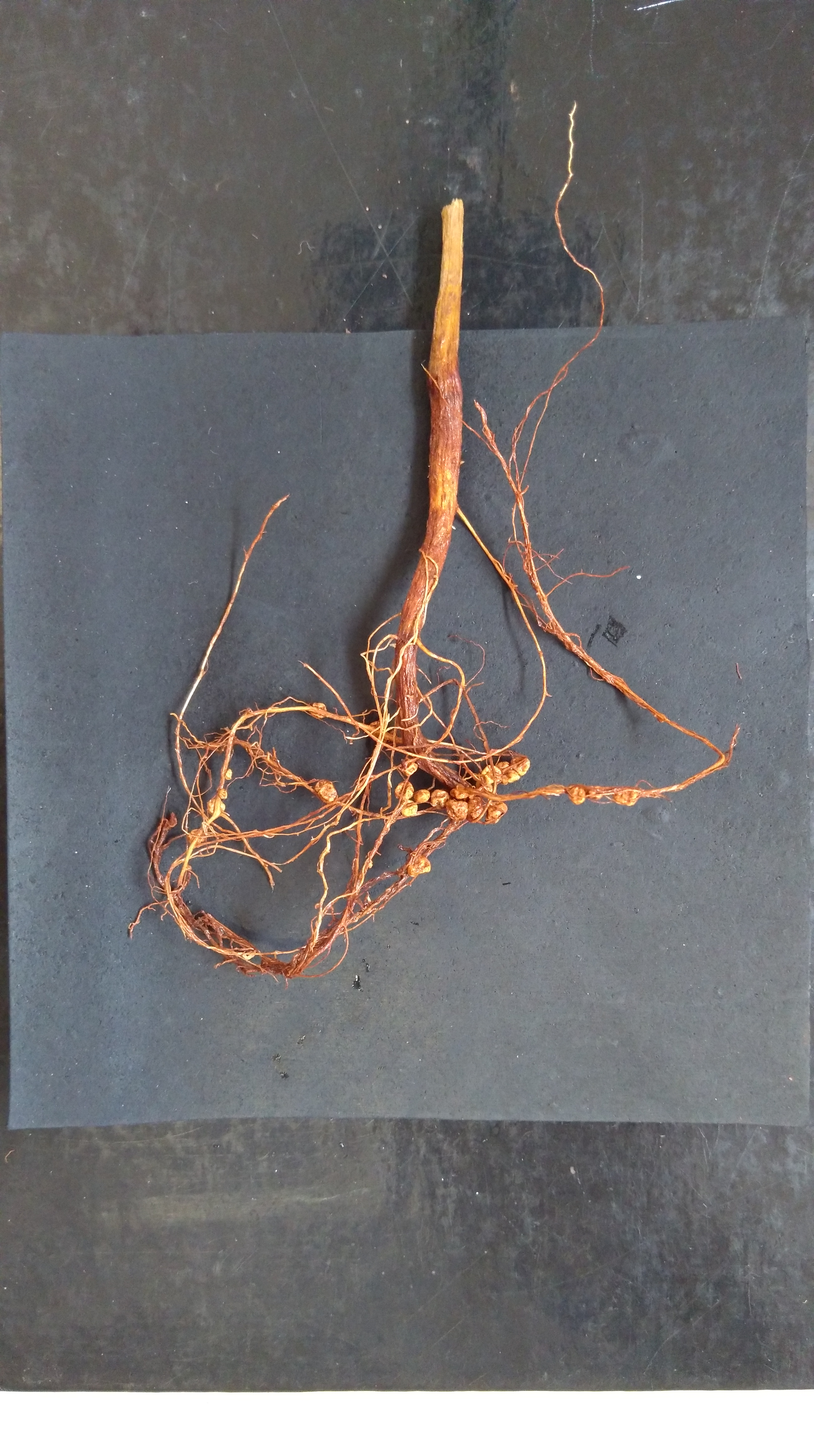nodule: (314, 777, 339, 804), (406, 855, 432, 878), (486, 800, 509, 824), (444, 800, 468, 822), (612, 789, 641, 807), (479, 764, 502, 785), (367, 721, 388, 744), (307, 701, 330, 721), (393, 780, 414, 801), (509, 757, 531, 776), (467, 796, 483, 822), (430, 788, 450, 808), (207, 797, 227, 815), (186, 828, 206, 846), (399, 799, 418, 817), (568, 787, 586, 806), (500, 769, 520, 785), (401, 761, 419, 777), (412, 788, 430, 803), (449, 788, 469, 800), (588, 785, 604, 800), (495, 761, 510, 770), (218, 788, 228, 800), (224, 768, 233, 781)
